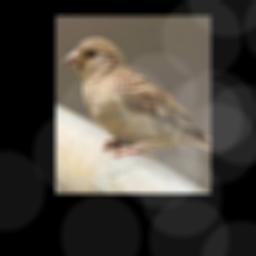Sparrow: (62, 36, 211, 158)
